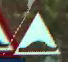Speed Breaker ahead: (0, 1, 63, 58)
